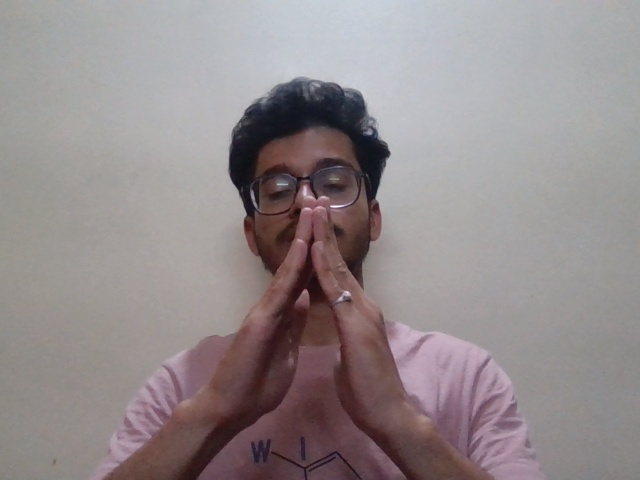home: (212, 201, 432, 446)
